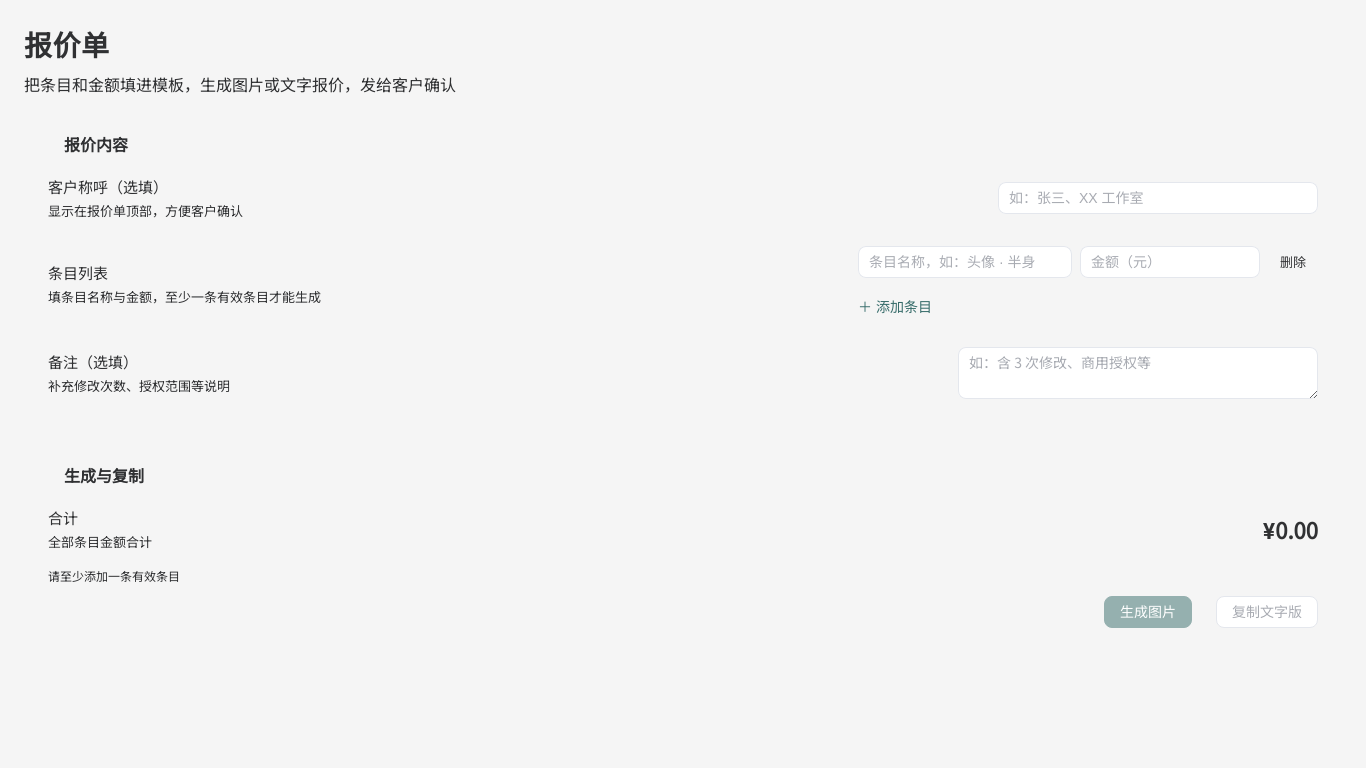
Test: 报价单生成（812-tools-a） › 删除条目后合计同步减少
Step 1. Type "头像" into the field with placeholder "条目名称，如：头像 · 半身" → [965, 262], box x1=869 y1=246 x2=1061 y2=276
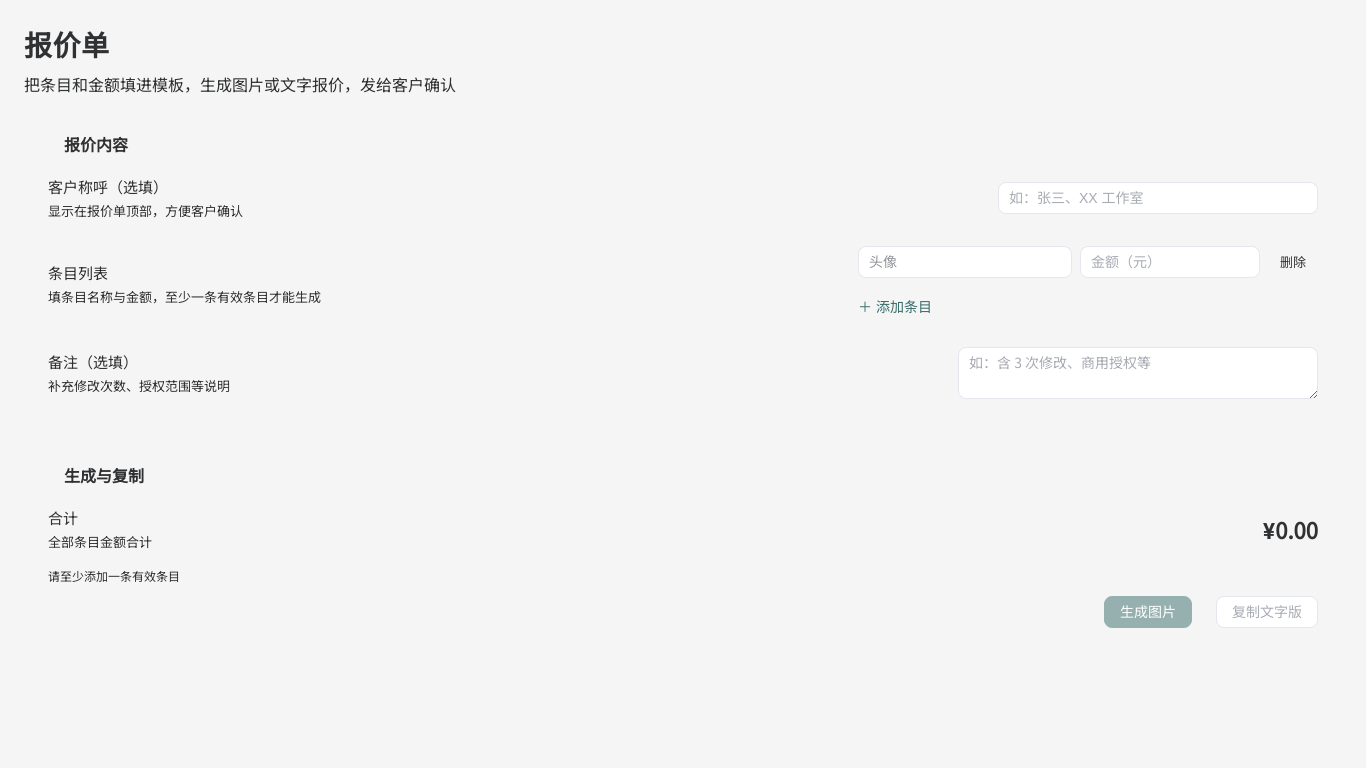
Step 2. Type "200" into the field with placeholder "金额（元）" → [1170, 262], box x1=1091 y1=246 x2=1249 y2=276
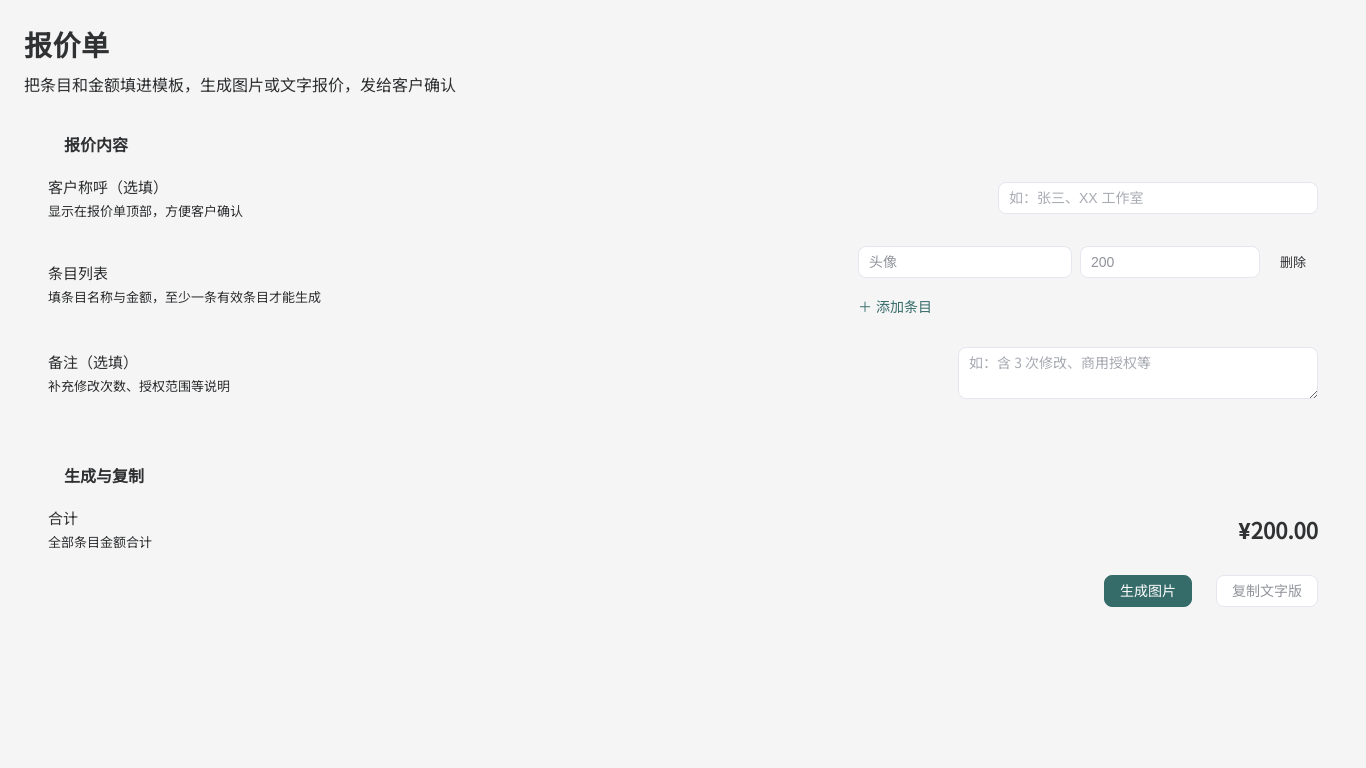
Step 3. Click the button "＋ 添加条目" → [895, 307], box x1=858 y1=291 x2=932 y2=323
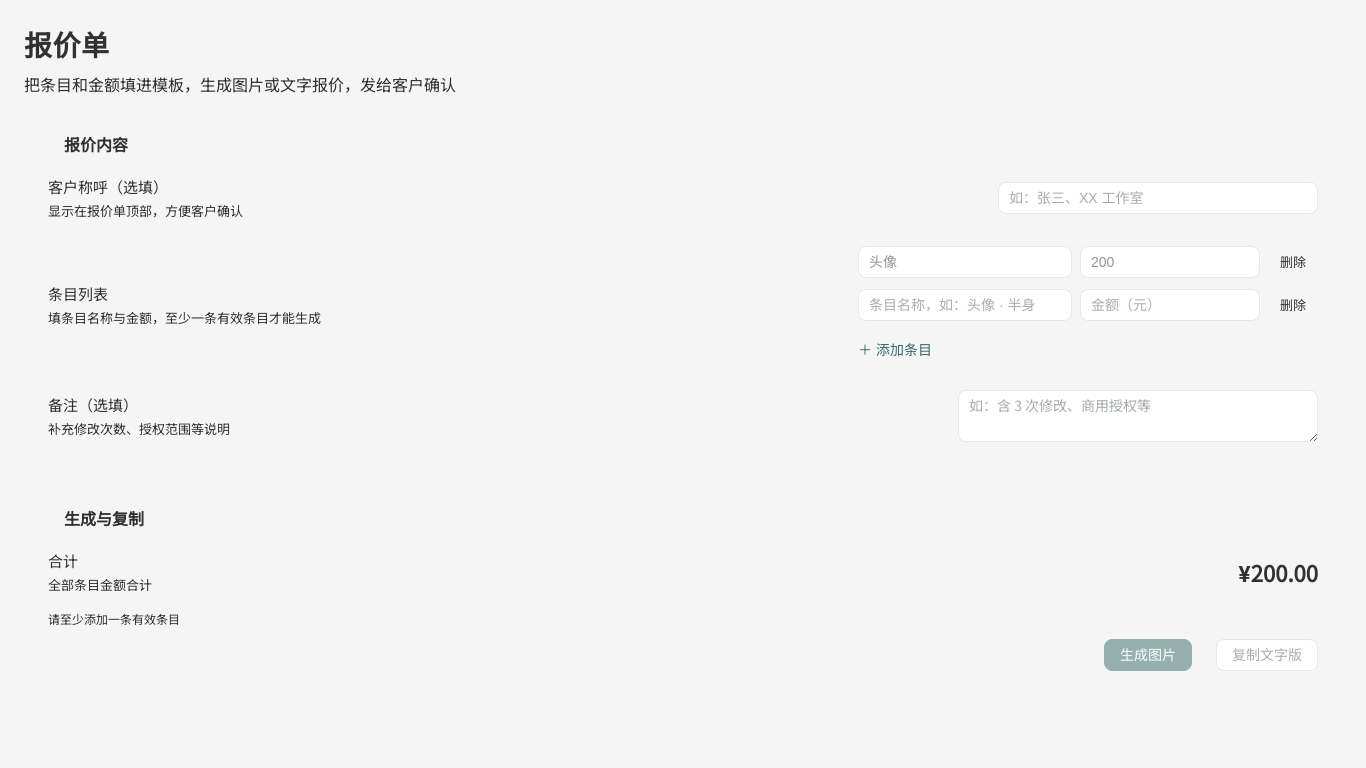
Step 4. Type "背景" into the field with placeholder "条目名称，如：头像 · 半身" → [965, 304], box x1=869 y1=290 x2=1061 y2=320
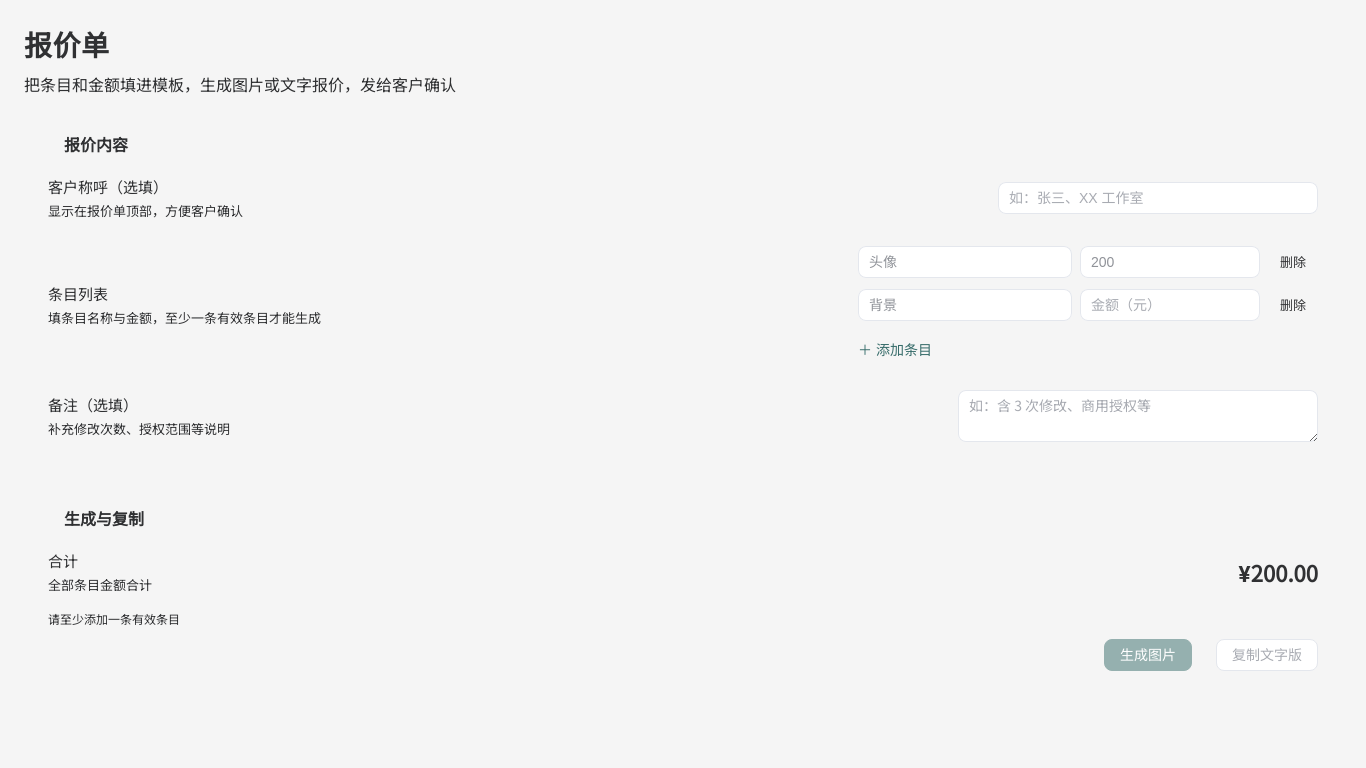
Step 5. Type "80" into the field with placeholder "金额（元）" → [1170, 304], box x1=1091 y1=290 x2=1249 y2=320
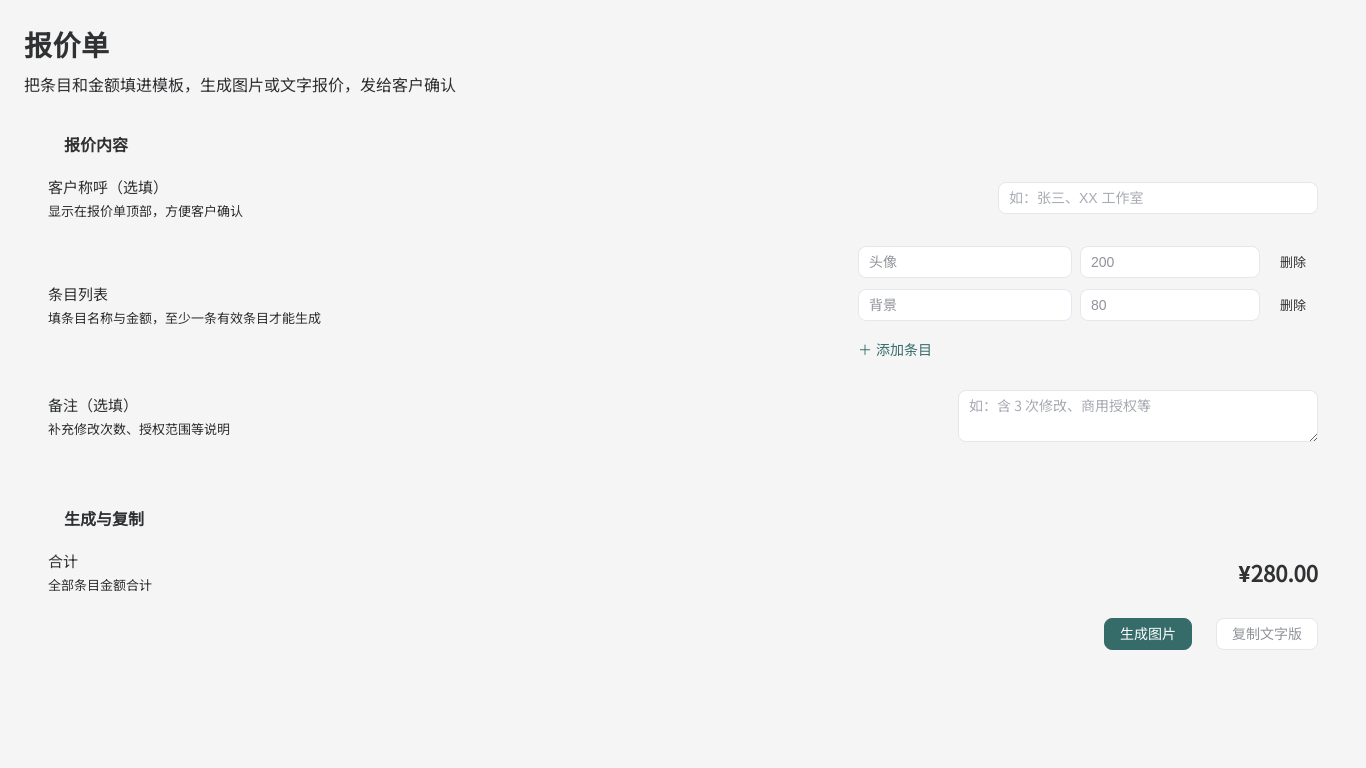
Expected: the text "¥280.00" is shown, x1=1238 y1=556 x2=1318 y2=588
Step 6. Click the 1st button "删除" → [1293, 262], box x1=1268 y1=244 x2=1318 y2=279
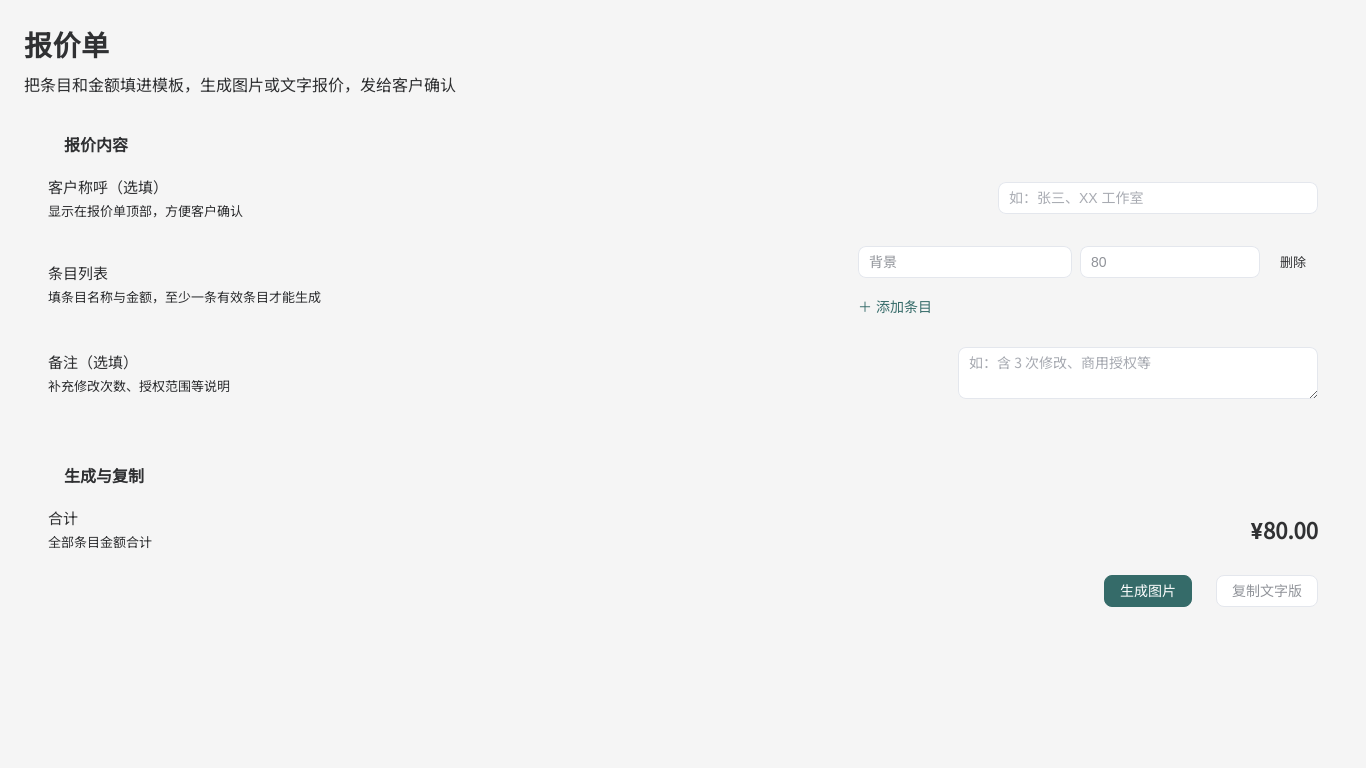
Expected: the text "¥80.00" is shown, x1=1250 y1=513 x2=1318 y2=545
